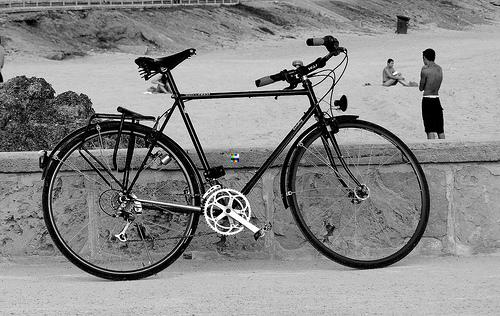car: (40, 33, 431, 283)
person: (416, 45, 448, 140), (382, 56, 421, 90), (147, 68, 178, 93)
